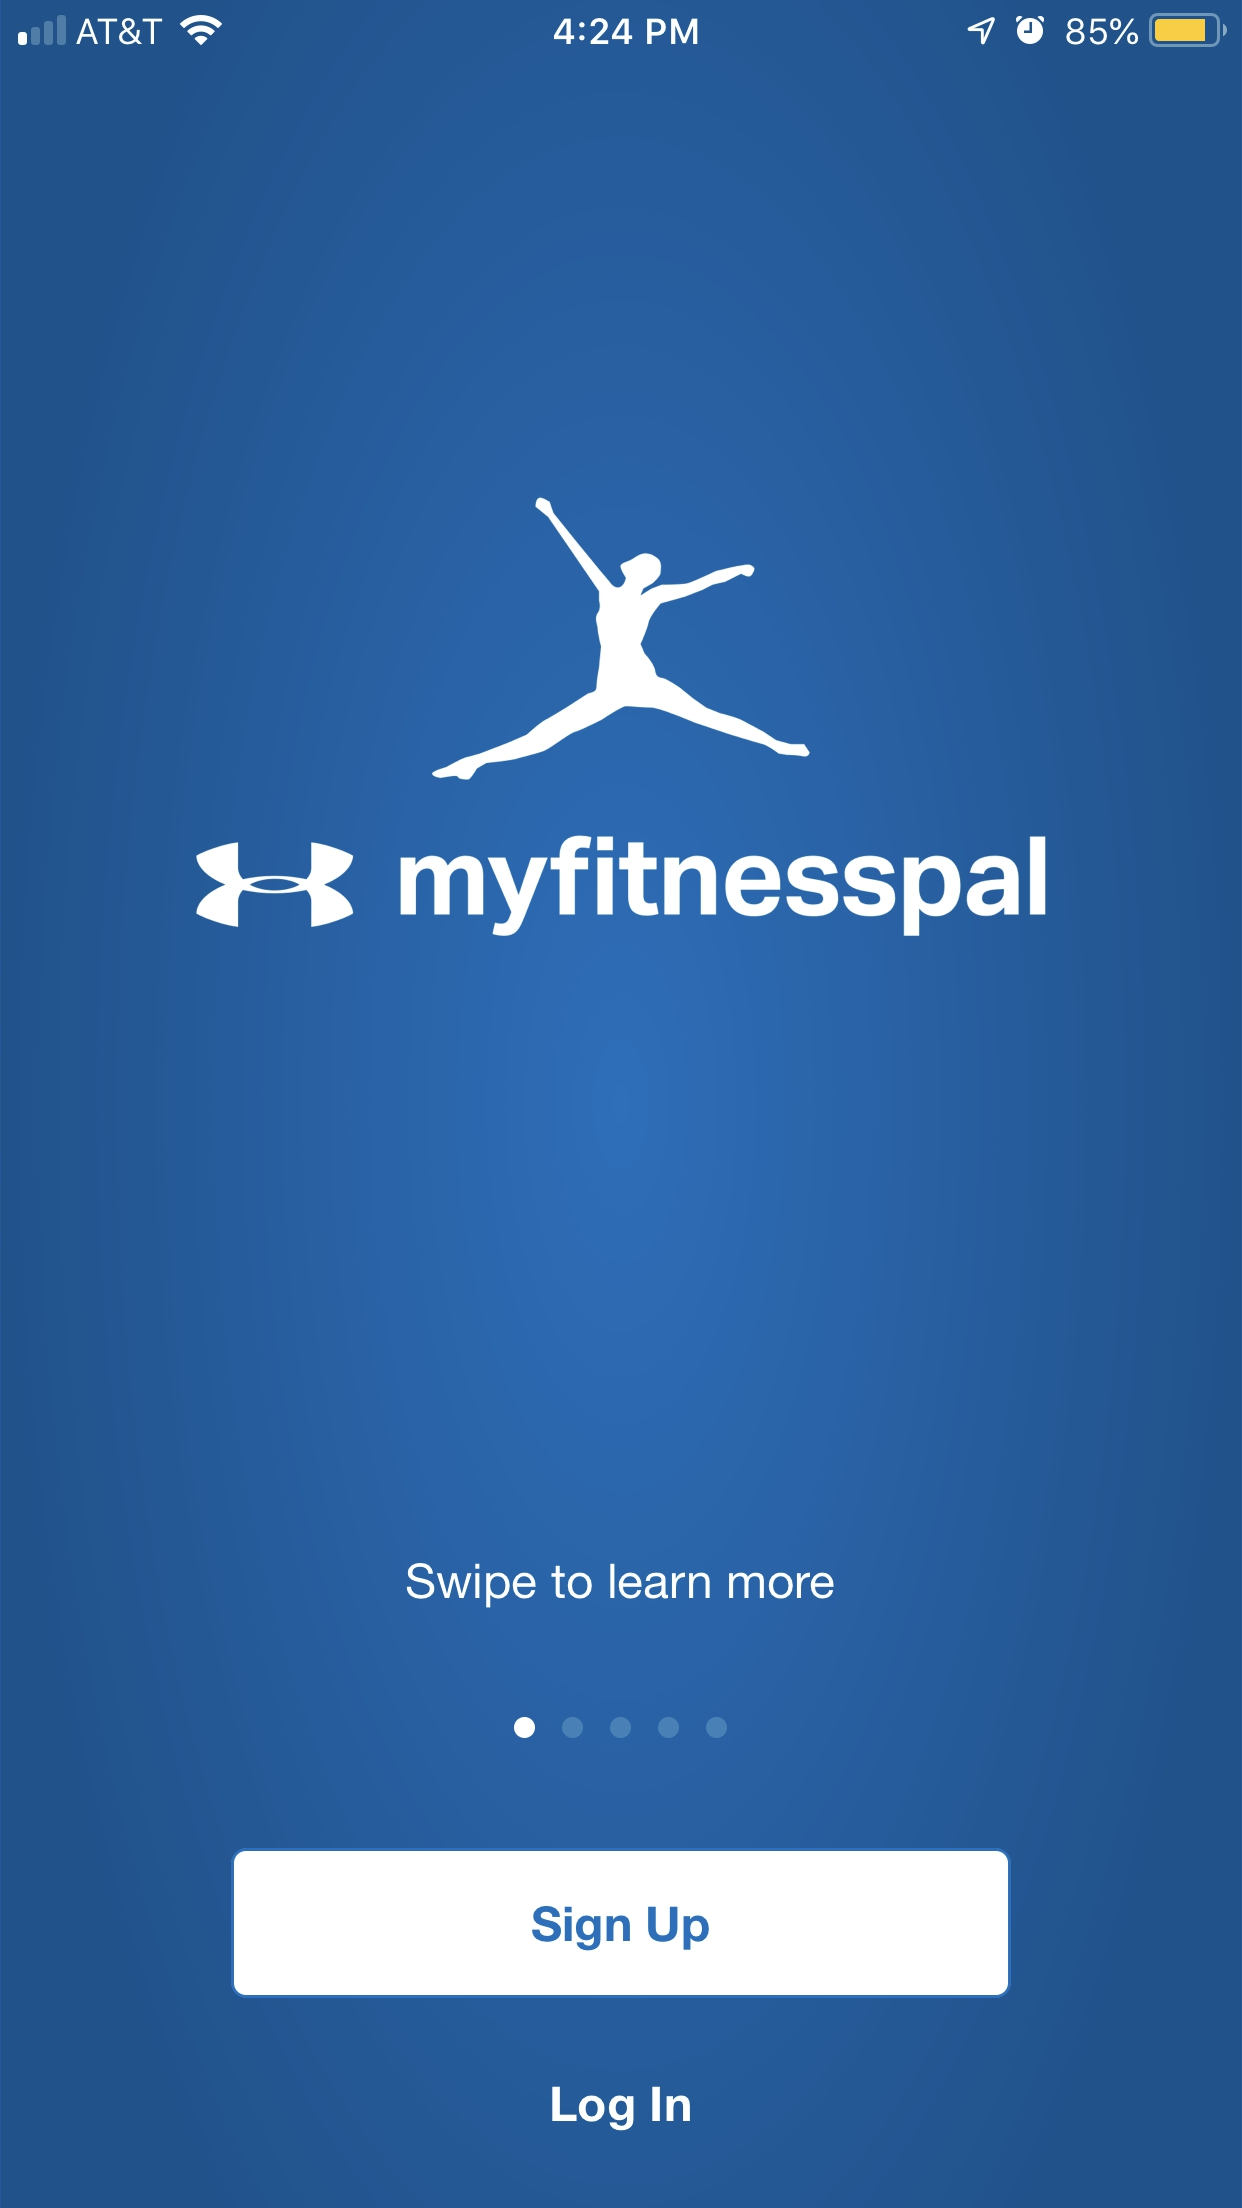Image: (432, 497, 810, 783), (196, 842, 355, 930)
PageIndicator: (513, 1717, 728, 1739)
Text: (400, 836, 1046, 939), (406, 1562, 834, 1611), (550, 2087, 692, 2132)
TextButton: (231, 1847, 1011, 1999)
UpperTaskBar: (2, 2, 1242, 49)
